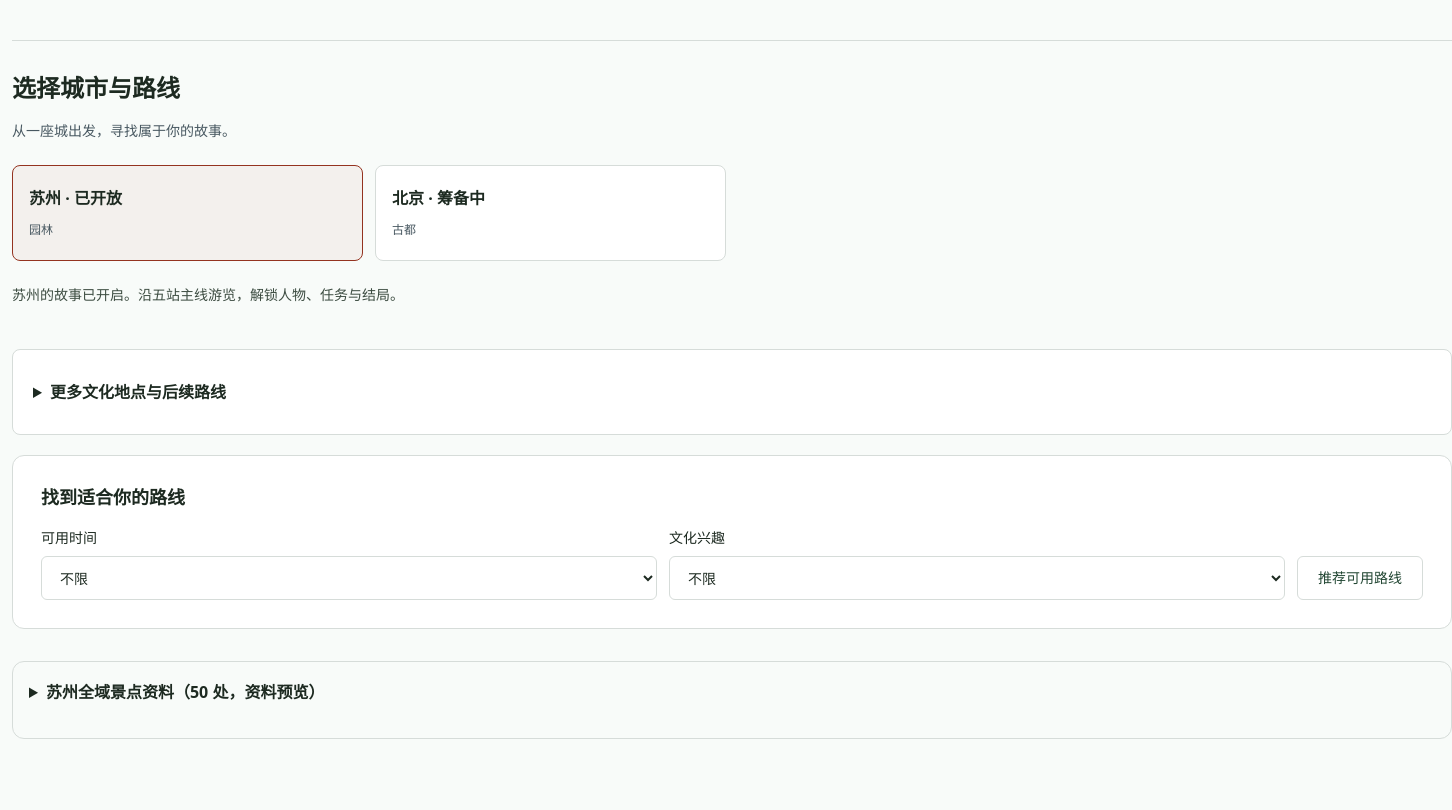
Test: building cities show sourced previews and cannot start a fabricated journey
This screenshot has width=1452, height=810.
Step 1. Click the button "北京 · 筹备中 古都" → [408, 198], box [375, 165, 726, 261]
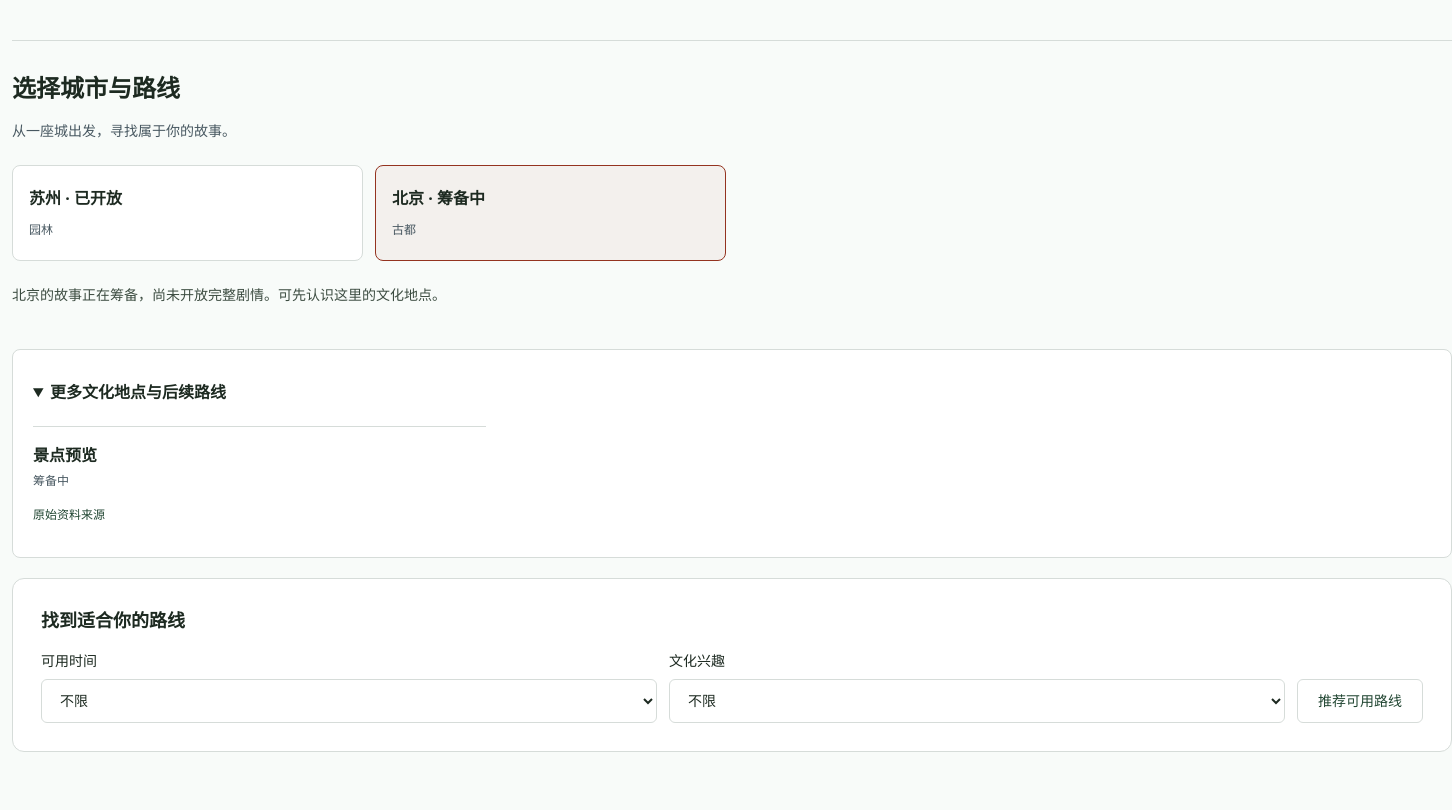
Check: the text "尚未开放完整剧情" is shown, box [12, 285, 446, 304]
Step 2. Click the button "推荐可用路线" → [1360, 701], box [1297, 679, 1423, 723]
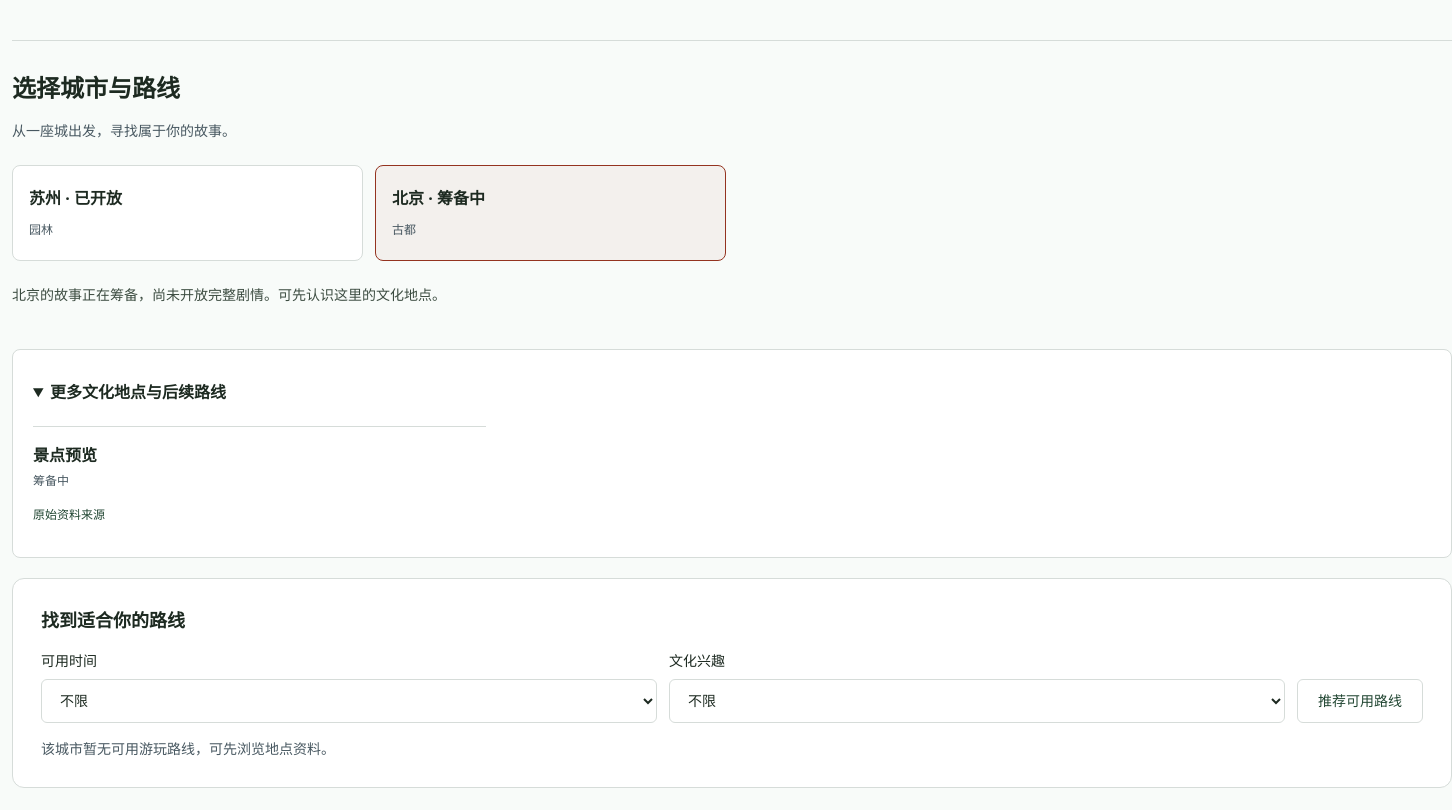
Check: the text "该城市暂无可用游玩路线，可先浏览地点资料。" is shown, box [41, 739, 335, 758]
